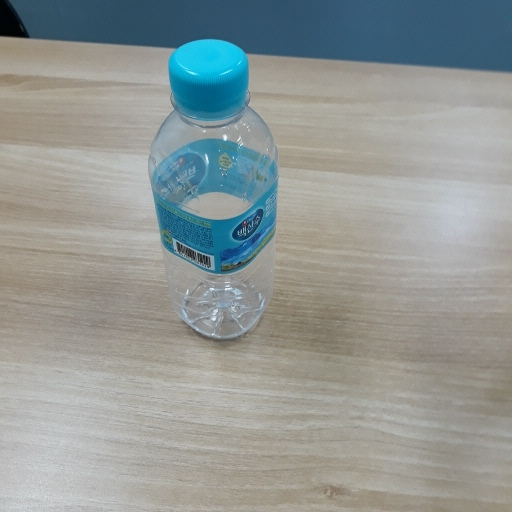Plastic_0: (147, 36, 279, 345)
